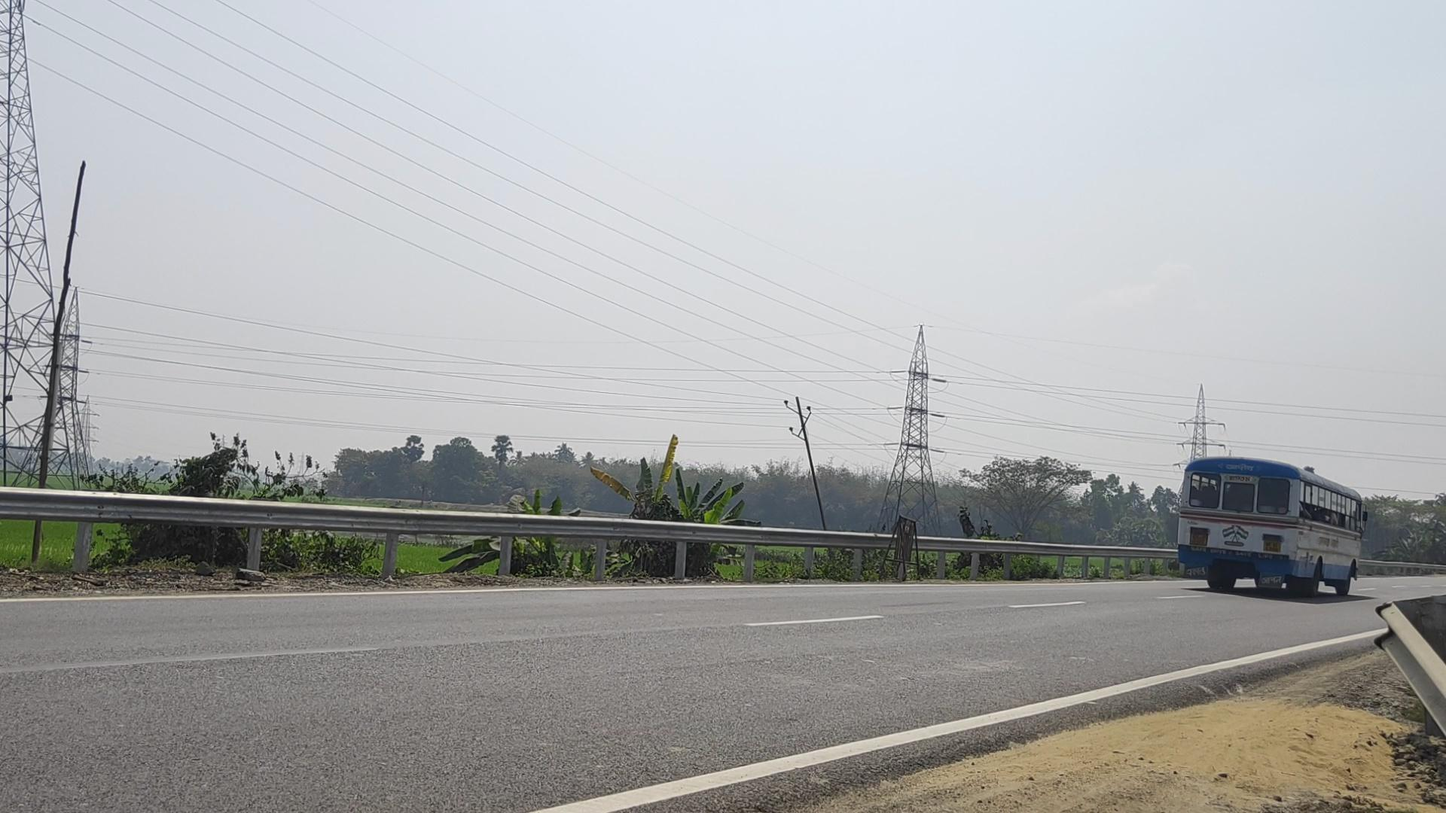Bus: (1176, 455, 1368, 598)
